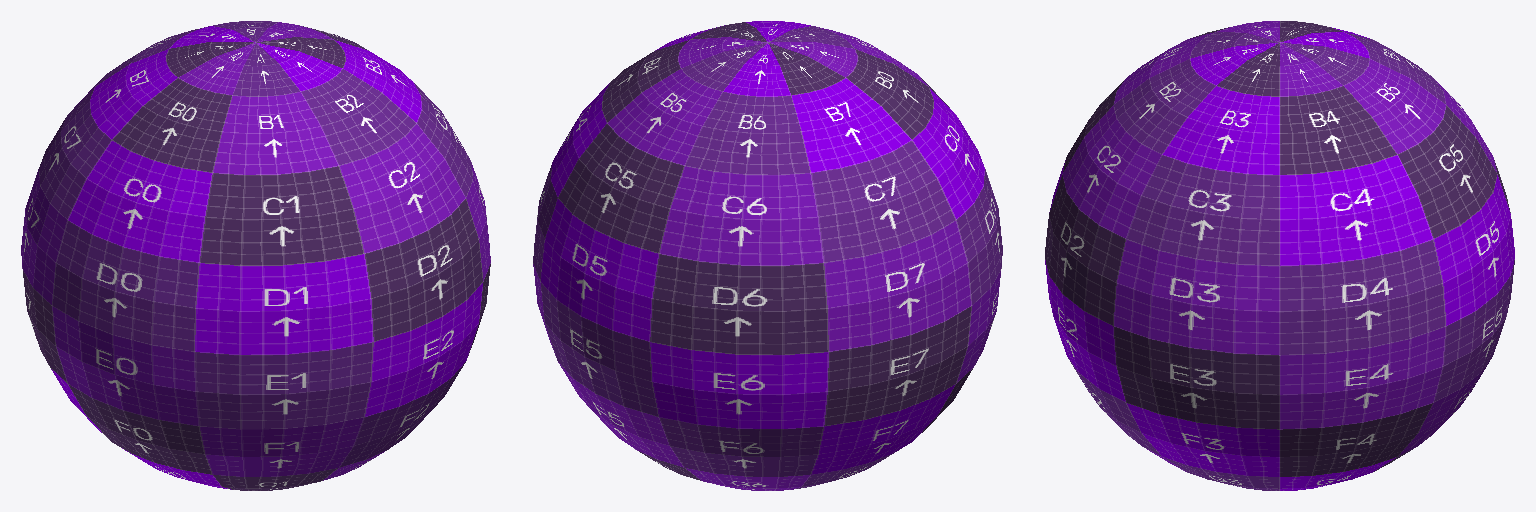
3 views of the same model, side by side, from view 1: azimuth 30°, elevation 25°; view 2: azimuth 150°, elevation 25°; view 3: azimuth 270°, elevation 25° (orthographic).
Visible parts, largest first — view 1: 球; view 2: 球; view 3: 球.
Boxes of the visible parts, x1=… form: 球: x1=21, y1=21, x2=490, y2=490; 球: x1=533, y1=21, x2=1002, y2=490; 球: x1=1045, y1=21, x2=1514, y2=490.
Size of the model in its own units: 2 by 2 by 2.
Materials: 1 (1 with a texture image).